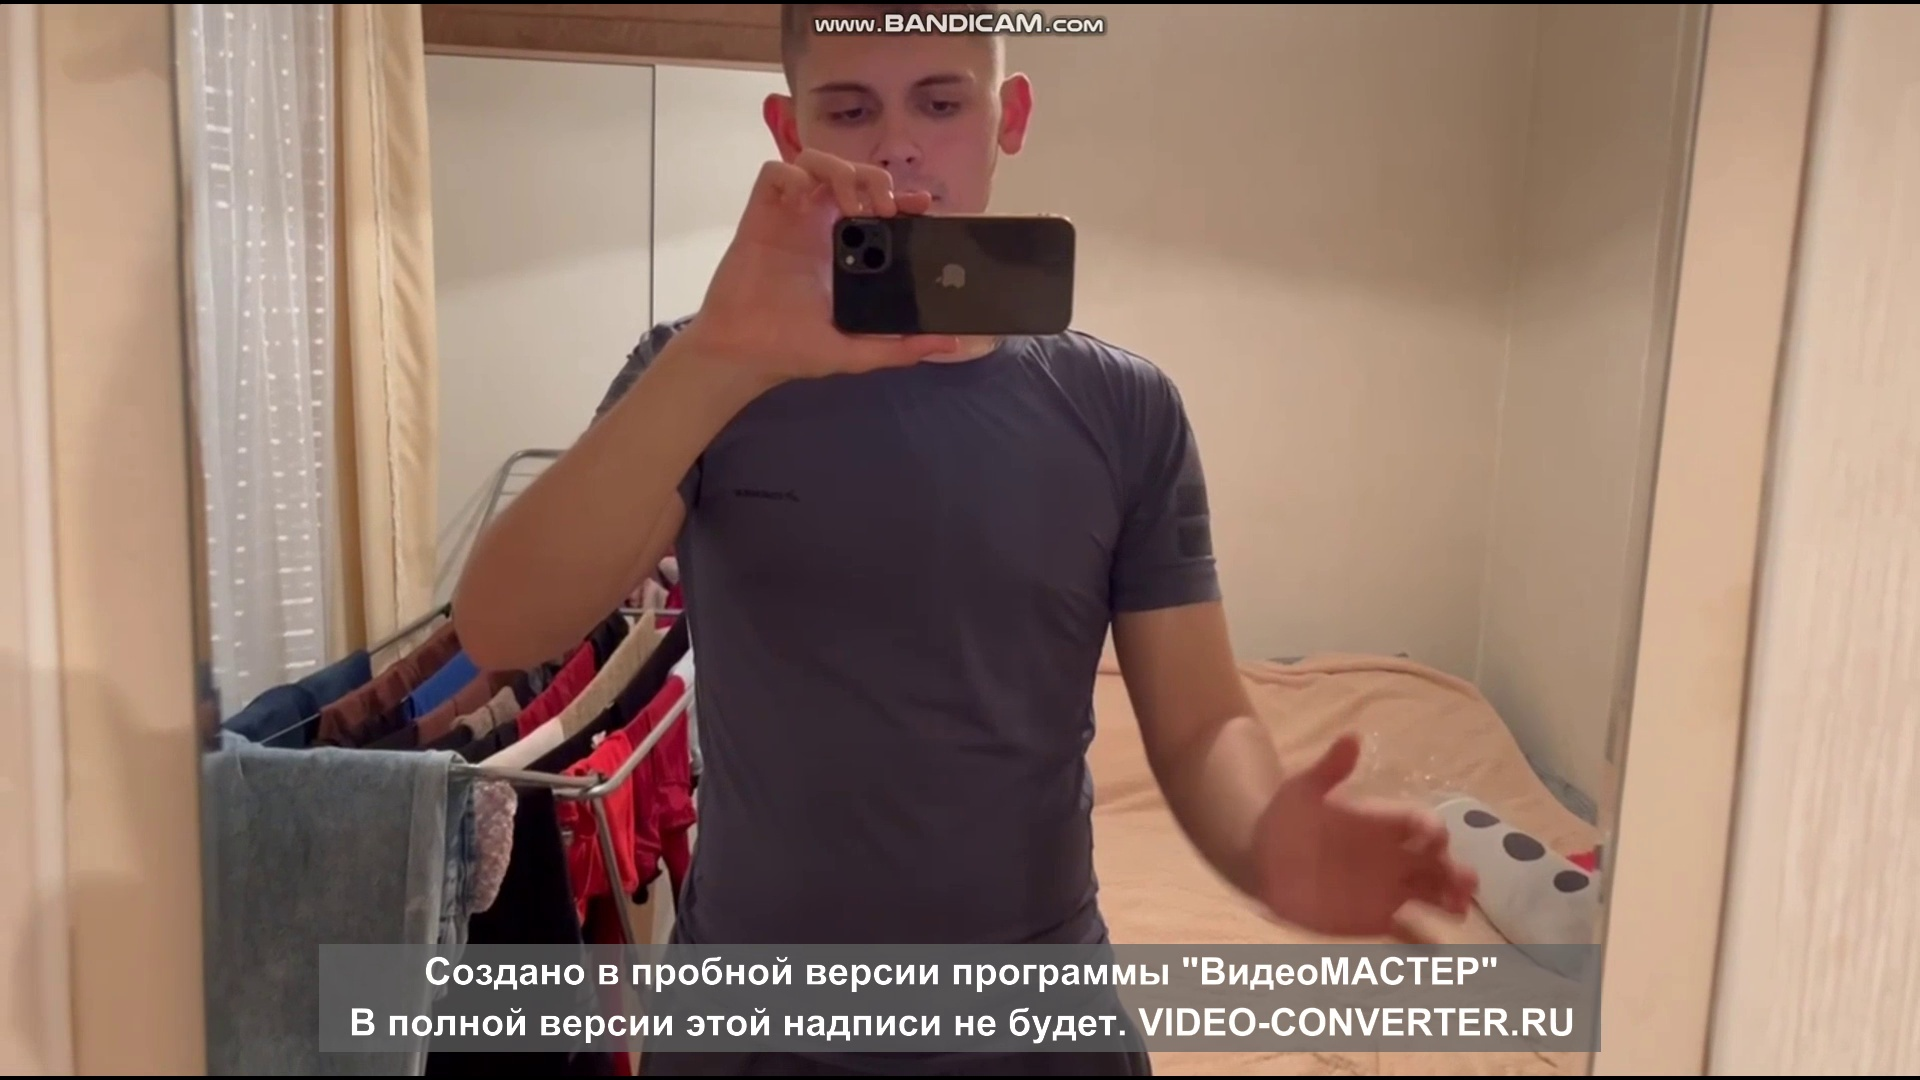Ладонь: (1251, 732, 1476, 944)
